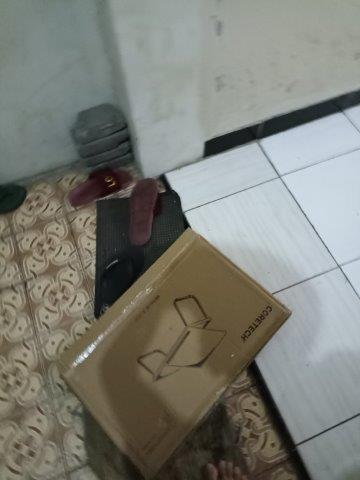kardus: (67, 229, 289, 474)
